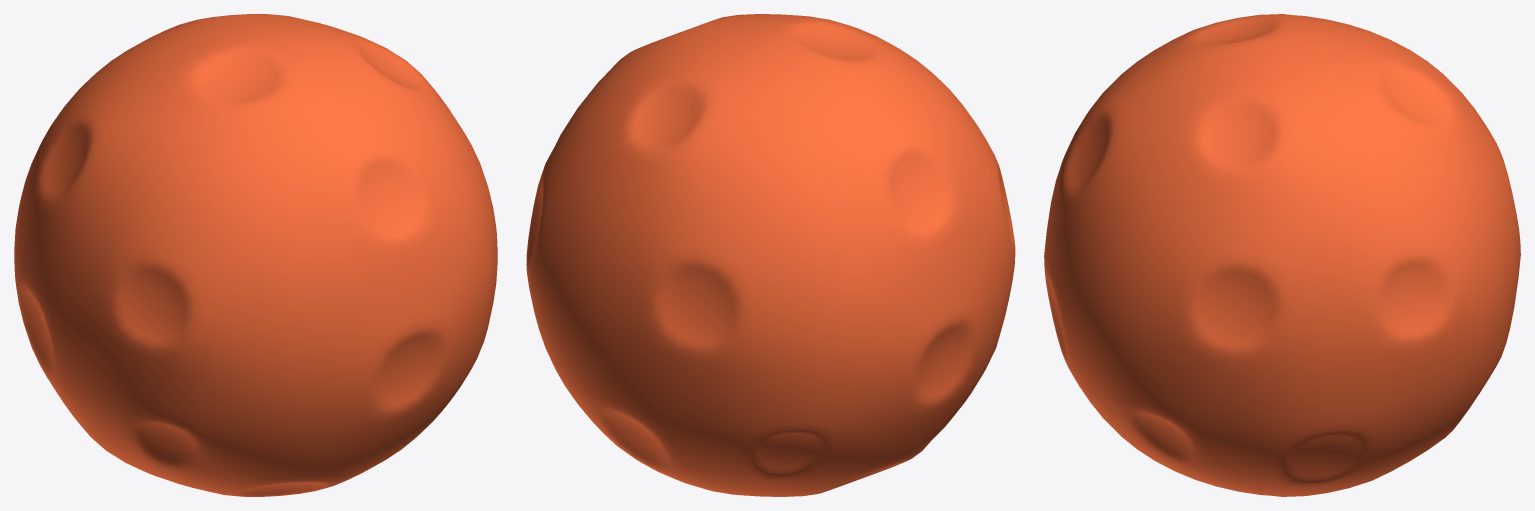
File: Public_17_Meteor_1.glb
3 views of the same model, side by side, from view 1: azimuth 30°, elevation 25°; view 2: azimuth 150°, elevation 25°; view 3: azimuth 270°, elevation 25° (orthographic).
Parts seen in each view (by area): view 1: Public_17_Meteor_1; view 2: Public_17_Meteor_1; view 3: Public_17_Meteor_1.
Boxes of the visible parts, x1=… form: Public_17_Meteor_1: x1=14, y1=14, x2=497, y2=496; Public_17_Meteor_1: x1=526, y1=14, x2=1015, y2=496; Public_17_Meteor_1: x1=1044, y1=14, x2=1520, y2=496.
Size of the model in its own units: 6.39 by 6.39 by 6.39.
Materials: 1 (1 with a texture image).
